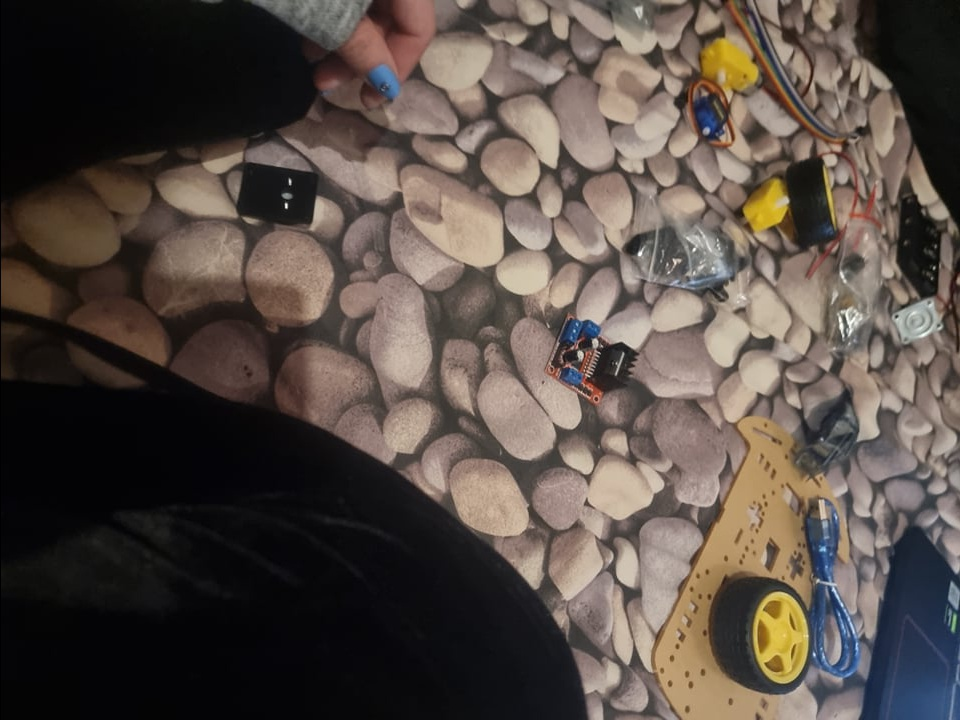BATTERY BOX: (892, 188, 947, 297)
MOTOR: (542, 312, 635, 406)
